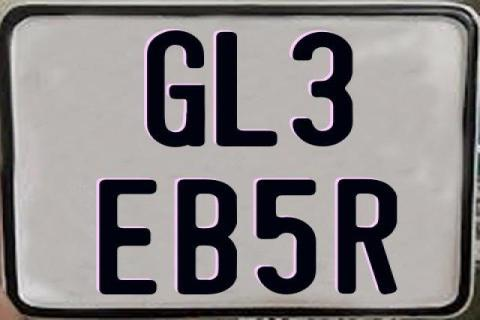0: (254, 178, 319, 298), (290, 30, 355, 144)
B: (177, 178, 239, 296)
E: (98, 179, 159, 295)
G: (145, 30, 206, 152)
L: (213, 32, 277, 148)
R: (338, 179, 398, 296)
